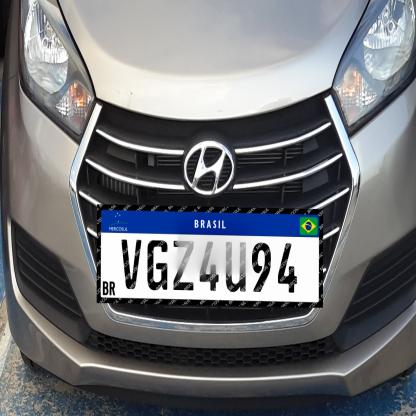PlacaM: (97, 204, 323, 308)
